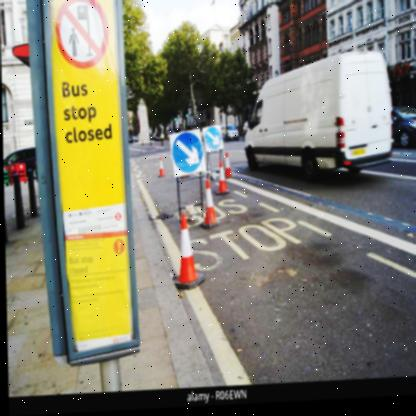Keep right: (167, 133, 203, 176), (203, 129, 222, 154)
